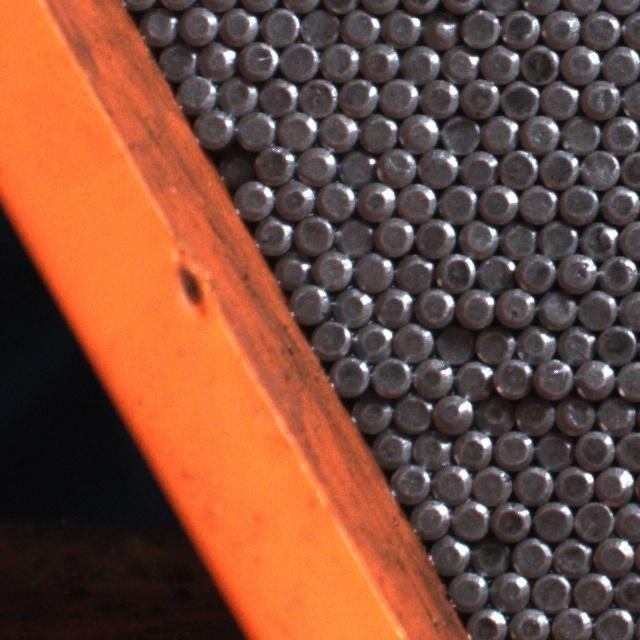tool: (253, 143, 294, 184), (370, 354, 411, 395), (433, 391, 474, 432), (558, 180, 598, 222), (592, 531, 632, 573), (329, 352, 369, 394), (573, 497, 613, 538), (449, 497, 489, 538), (532, 355, 572, 396), (274, 178, 314, 219), (490, 498, 530, 539), (596, 322, 637, 362), (316, 177, 356, 218), (217, 73, 257, 114), (412, 355, 453, 395), (256, 74, 296, 115), (532, 498, 572, 539), (598, 251, 638, 292), (429, 532, 469, 573), (477, 181, 517, 221), (290, 281, 330, 321), (296, 143, 336, 183), (218, 4, 258, 44), (393, 320, 433, 360), (471, 462, 511, 502), (574, 356, 614, 396), (551, 535, 591, 575), (595, 394, 635, 434), (553, 460, 593, 500), (560, 43, 600, 83), (414, 284, 454, 324), (447, 568, 487, 608), (318, 108, 358, 148), (374, 214, 414, 254), (512, 461, 552, 501), (419, 74, 459, 114), (498, 218, 538, 258), (312, 247, 352, 287), (511, 534, 551, 574), (331, 284, 371, 324), (194, 106, 234, 146), (576, 286, 616, 326), (414, 216, 454, 256), (432, 460, 472, 500), (556, 250, 596, 290), (294, 212, 334, 252), (436, 250, 476, 290), (358, 110, 398, 150), (278, 40, 318, 80), (319, 38, 359, 78), (490, 568, 530, 608), (235, 108, 275, 148), (458, 147, 498, 187), (298, 74, 338, 114), (352, 318, 392, 358), (572, 569, 612, 609), (310, 318, 350, 358), (500, 78, 540, 118), (520, 40, 560, 80), (434, 324, 474, 364), (470, 536, 510, 576), (580, 78, 619, 119), (453, 355, 492, 396), (410, 497, 449, 538), (396, 180, 436, 219), (518, 182, 557, 222), (499, 146, 538, 186), (494, 426, 533, 466), (580, 7, 620, 46), (391, 459, 430, 499), (437, 181, 476, 221), (373, 284, 412, 324), (392, 391, 431, 431), (540, 147, 579, 187), (479, 43, 519, 82), (580, 147, 619, 187), (339, 75, 378, 115), (540, 6, 579, 46), (398, 111, 438, 150), (493, 356, 532, 396), (238, 38, 277, 78), (517, 250, 556, 290), (595, 462, 634, 502), (260, 5, 300, 44), (499, 7, 539, 46), (178, 4, 217, 44), (456, 286, 495, 326), (538, 219, 577, 259), (476, 250, 516, 289), (460, 76, 499, 116), (353, 249, 392, 289), (459, 7, 499, 46), (559, 115, 599, 154), (394, 251, 434, 290), (439, 112, 478, 152), (138, 4, 177, 44), (536, 288, 576, 327), (530, 570, 569, 610), (252, 214, 291, 254), (577, 216, 617, 255), (234, 178, 273, 218), (513, 395, 553, 434), (379, 74, 417, 115), (356, 179, 394, 220), (601, 43, 640, 82), (555, 323, 594, 362), (400, 42, 439, 81), (440, 43, 479, 82), (277, 108, 316, 147), (381, 6, 420, 45), (496, 285, 535, 324), (515, 323, 554, 362), (575, 427, 614, 466), (340, 5, 379, 44), (555, 395, 594, 434), (520, 111, 559, 150), (196, 39, 235, 78), (479, 112, 518, 151), (360, 40, 399, 79), (458, 217, 497, 256), (410, 427, 449, 466), (474, 392, 513, 431), (177, 71, 216, 110), (418, 146, 458, 184), (600, 182, 638, 222), (540, 78, 578, 118), (451, 426, 491, 464), (158, 40, 196, 80), (551, 603, 592, 640), (376, 146, 415, 184), (476, 325, 515, 363), (300, 7, 338, 46), (337, 146, 375, 185), (600, 114, 639, 152), (335, 216, 373, 255), (534, 428, 572, 467), (351, 395, 391, 432), (593, 604, 634, 640), (214, 146, 252, 184), (508, 605, 549, 640), (373, 427, 410, 465), (273, 249, 311, 286), (466, 605, 506, 640), (421, 11, 458, 48), (614, 358, 640, 398), (614, 498, 640, 538), (614, 569, 640, 609), (616, 427, 640, 467), (618, 287, 640, 327), (619, 217, 640, 257), (620, 78, 640, 118), (621, 8, 640, 47), (621, 148, 640, 186)
